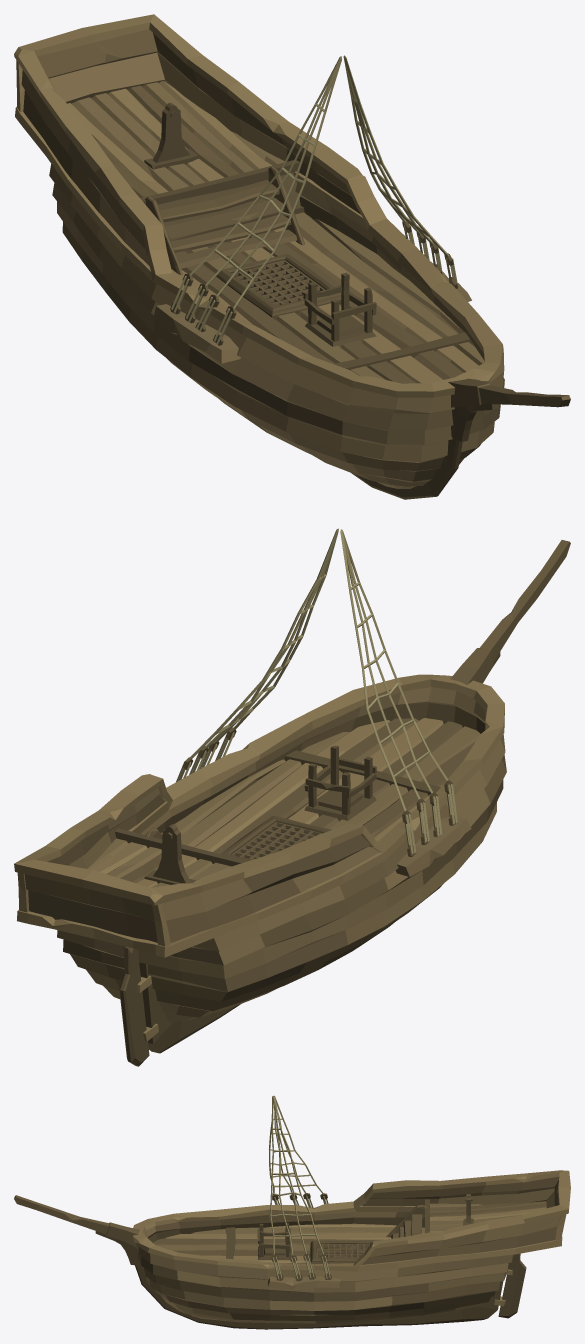
Rendered from SmallShip_3.fbx.
3 renders of one model, top to bottom at view 1: azimuth 30°, elevation 25°; view 2: azimuth 150°, elevation 25°; view 3: azimuth 270°, elevation 25°, orthographic. The views are drawn at different scales.
Parts seen in each view (by area): view 1: SmallShip_3; view 2: SmallShip_3; view 3: SmallShip_3.
Boxes of the visible parts, bbox=[...] form: SmallShip_3: bbox=[14, 14, 570, 499]; SmallShip_3: bbox=[14, 528, 570, 1066]; SmallShip_3: bbox=[14, 1095, 570, 1329].
Size of the model in its own units: 542 by 816 by 1760.
